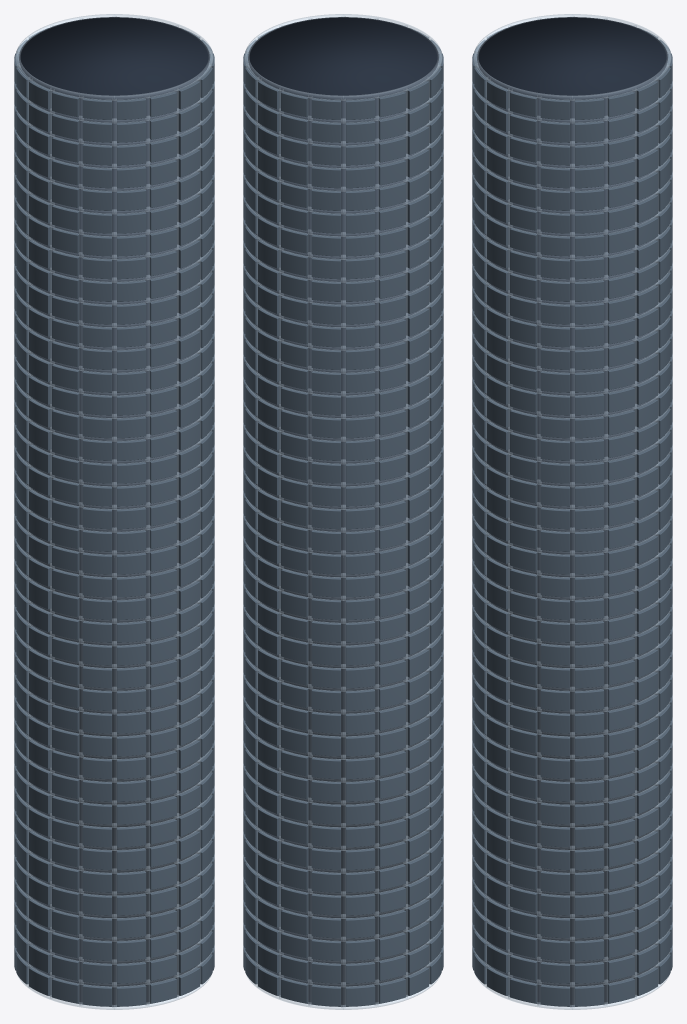
File: Колонна с энергией шейдер.fbx
3 renders of one model, left to right at view 1: azimuth 30°, elevation 25°; view 2: azimuth 150°, elevation 25°; view 3: azimuth 270°, elevation 25°, orthographic.
Visible parts, largest first — view 1: Armor Plates, Central Energy Housing, Glass_Vertical_13, Glass_Vertical_12, Glass_Vertical_14, Glass_Horizontal_41, Glass_Vertical_11, Glass_Vertical_15, Glass_Vertical_10, Glass_Vertical_16, Glass_Horizontal_01, Glass_Horizontal_08 (+38 smaller); view 2: Armor Plates, Central Energy Housing, Glass_Vertical_07, Glass_Vertical_06, Glass_Vertical_08, Glass_Horizontal_41, Glass_Vertical_05, Glass_Vertical_09, Glass_Vertical_04, Glass_Vertical_10, Glass_Horizontal_01, Glass_Horizontal_08 (+38 smaller); view 3: Armor Plates, Central Energy Housing, Glass_Vertical_01, Glass_Vertical_02, Glass_Vertical_18, Glass_Horizontal_41, Glass_Vertical_03, Glass_Vertical_17, Glass_Vertical_04, Glass_Vertical_16, Glass_Horizontal_01, Glass_Horizontal_08 (+38 smaller).
Boxes of the visible parts, x1,y1,x2,y2 form: Armor Plates: (14,28,214,1006); Central Energy Housing: (19,17,209,1006); Glass_Vertical_13: (112,99,116,1007); Glass_Vertical_12: (79,96,83,1005); Glass_Vertical_14: (145,96,149,1005); Glass_Horizontal_41: (15,14,213,100); Glass_Vertical_11: (50,88,54,998); Glass_Vertical_15: (174,88,178,998); Glass_Vertical_10: (28,77,32,987); Glass_Vertical_16: (196,77,200,987); Glass_Horizontal_01: (17,975,211,1009); Glass_Horizontal_08: (18,817,210,850); Armor Plates: (243,28,443,1006); Central Energy Housing: (248,17,438,1006); Glass_Vertical_07: (341,99,345,1007); Glass_Vertical_06: (308,96,312,1005); Glass_Vertical_08: (374,96,378,1005); Glass_Horizontal_41: (244,14,442,100); Glass_Vertical_05: (279,88,283,998); Glass_Vertical_09: (403,88,407,998); Glass_Vertical_04: (257,77,261,987); Glass_Vertical_10: (425,77,429,987); Glass_Horizontal_01: (246,975,440,1009); Glass_Horizontal_08: (247,817,439,850); Armor Plates: (472,28,672,1006); Central Energy Housing: (477,17,667,1006); Glass_Vertical_01: (570,99,574,1007); Glass_Vertical_02: (603,96,607,1005); Glass_Vertical_18: (537,96,541,1005); Glass_Horizontal_41: (473,14,671,100); Glass_Vertical_03: (632,88,636,998); Glass_Vertical_17: (508,88,512,998); Glass_Vertical_04: (654,77,658,987); Glass_Vertical_16: (486,77,490,987); Glass_Horizontal_01: (475,975,669,1009); Glass_Horizontal_08: (476,817,668,850).
Size of the model in its own units: 999 by 5026 by 1000.
